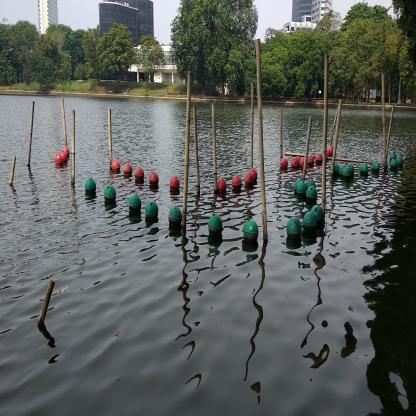green_buoy: (284, 213, 302, 247), (241, 216, 260, 248), (206, 210, 224, 243), (143, 198, 160, 225), (311, 202, 325, 232), (303, 211, 318, 238), (168, 203, 182, 231), (103, 184, 117, 206), (128, 192, 142, 214), (304, 186, 319, 205), (84, 176, 96, 198), (295, 182, 306, 203), (340, 164, 350, 186), (360, 159, 370, 178), (306, 177, 316, 195), (338, 161, 347, 179), (372, 158, 381, 176), (390, 157, 399, 175), (292, 178, 302, 194), (348, 161, 356, 179), (333, 160, 340, 180), (388, 150, 398, 164), (397, 156, 404, 169)
red_buoy: (217, 174, 228, 198), (169, 174, 181, 195), (149, 171, 160, 190), (135, 166, 145, 185), (53, 152, 64, 169), (244, 173, 255, 190), (233, 175, 243, 191), (112, 157, 120, 175), (124, 161, 132, 179), (292, 156, 301, 172), (61, 144, 71, 158), (279, 158, 289, 172), (250, 166, 258, 183), (307, 153, 315, 169), (59, 149, 68, 162), (300, 156, 308, 170), (316, 153, 323, 165), (325, 148, 332, 159), (328, 145, 336, 154)
